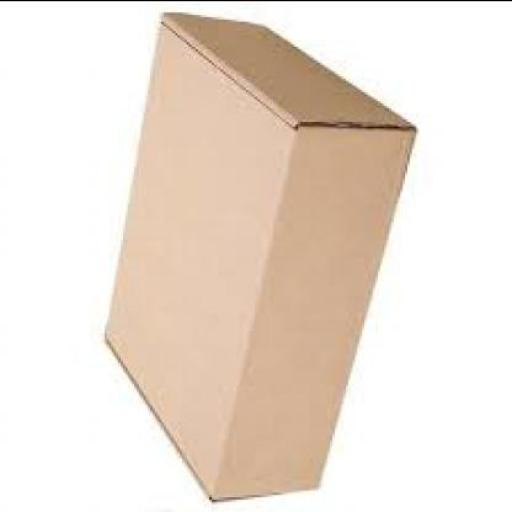cardboard: (102, 11, 416, 503)
